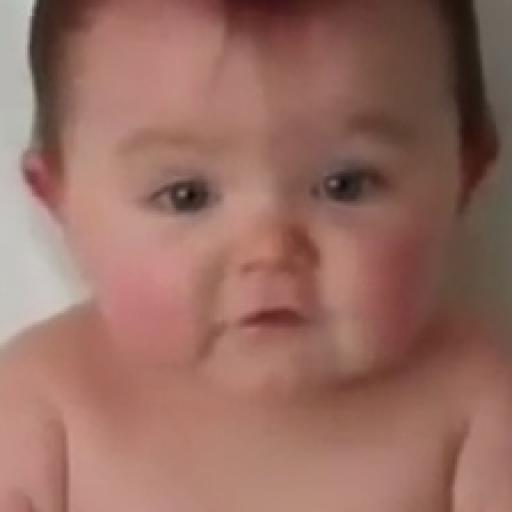Autism: (41, 22, 500, 413)
